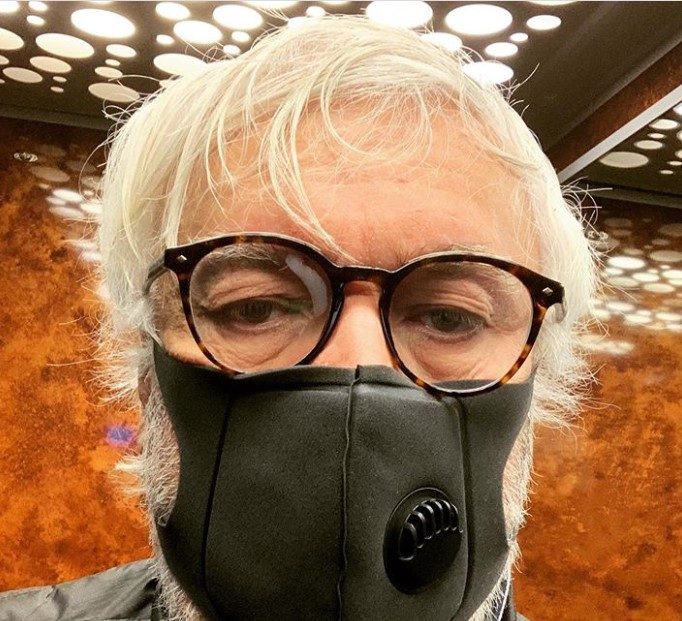face_with_mask: (129, 26, 570, 619)
